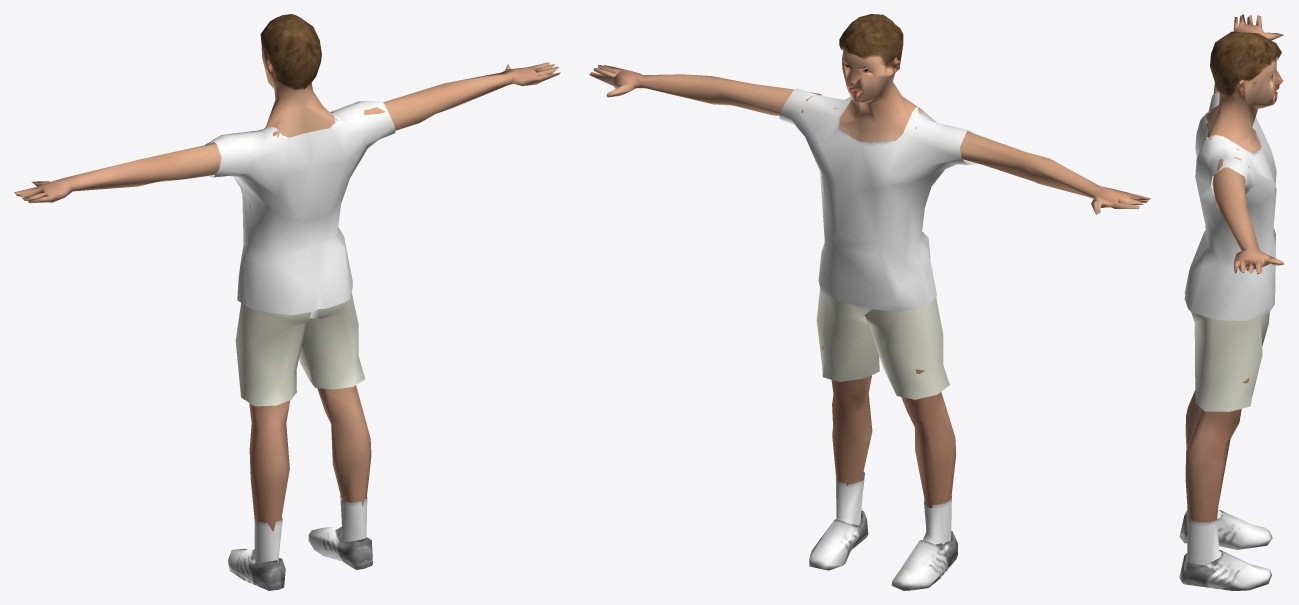
3 views of the same model, side by side, from view 1: azimuth 30°, elevation 25°; view 2: azimuth 150°, elevation 25°; view 3: azimuth 270°, elevation 25° (orthographic). The views are drawn at different scales.
Parts seen in each view (by area): view 1: mensch; view 2: mensch; view 3: mensch.
Boxes of the visible parts, x1,y1,x2,y2 form: mensch: (14, 14, 560, 590); mensch: (589, 14, 1150, 590); mensch: (1179, 14, 1284, 590).
Size of the model in its own units: 1.84 by 1.77 by 0.3177.
Materials: 1 (1 with a texture image).
